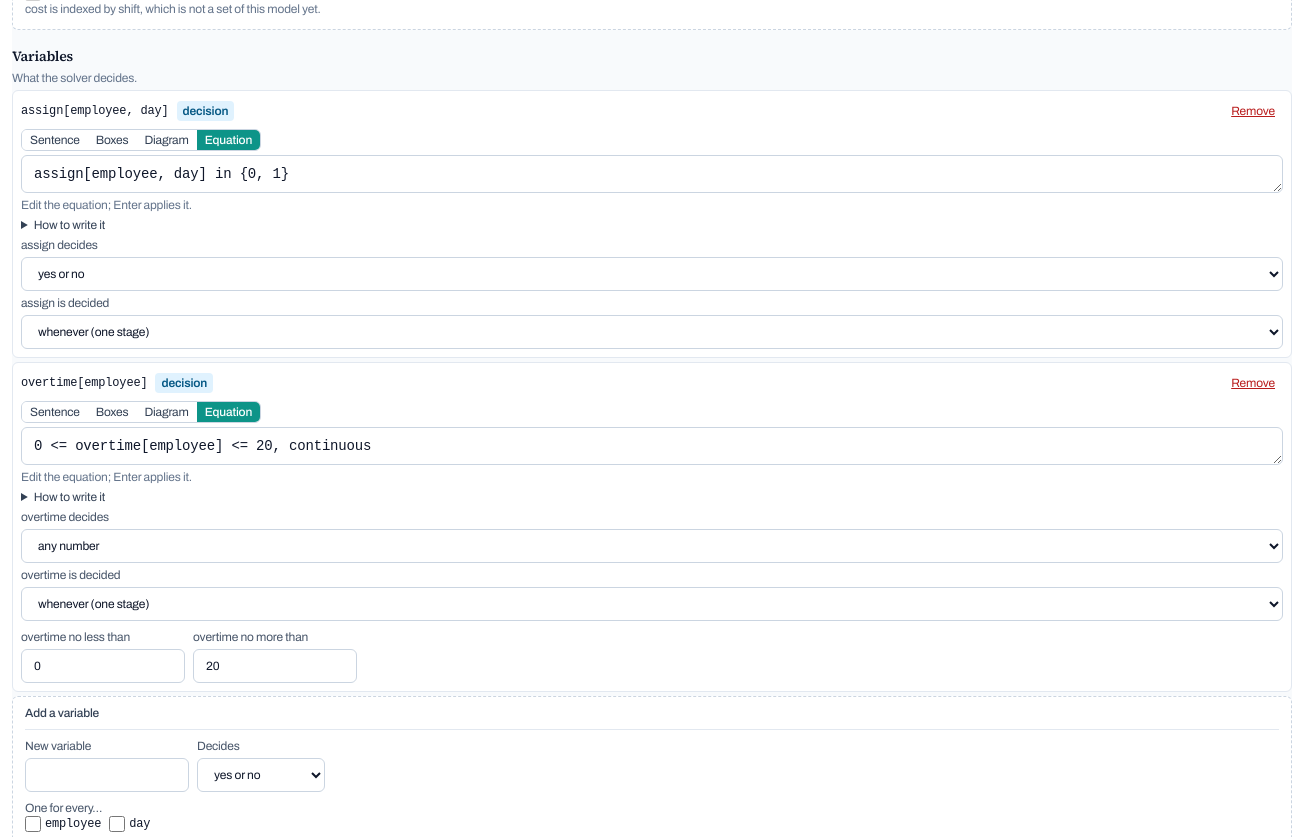
Test: declarations in the four views › writes a variable's limits from its equation, and refuses a new name there
(page scrolled)
Replace the text in the text box named "Equation for overtime" below "overtime[employee]" with "2 <= overtime[employee] <= 10, integer" at (652, 446), box [21,427,1283,465]
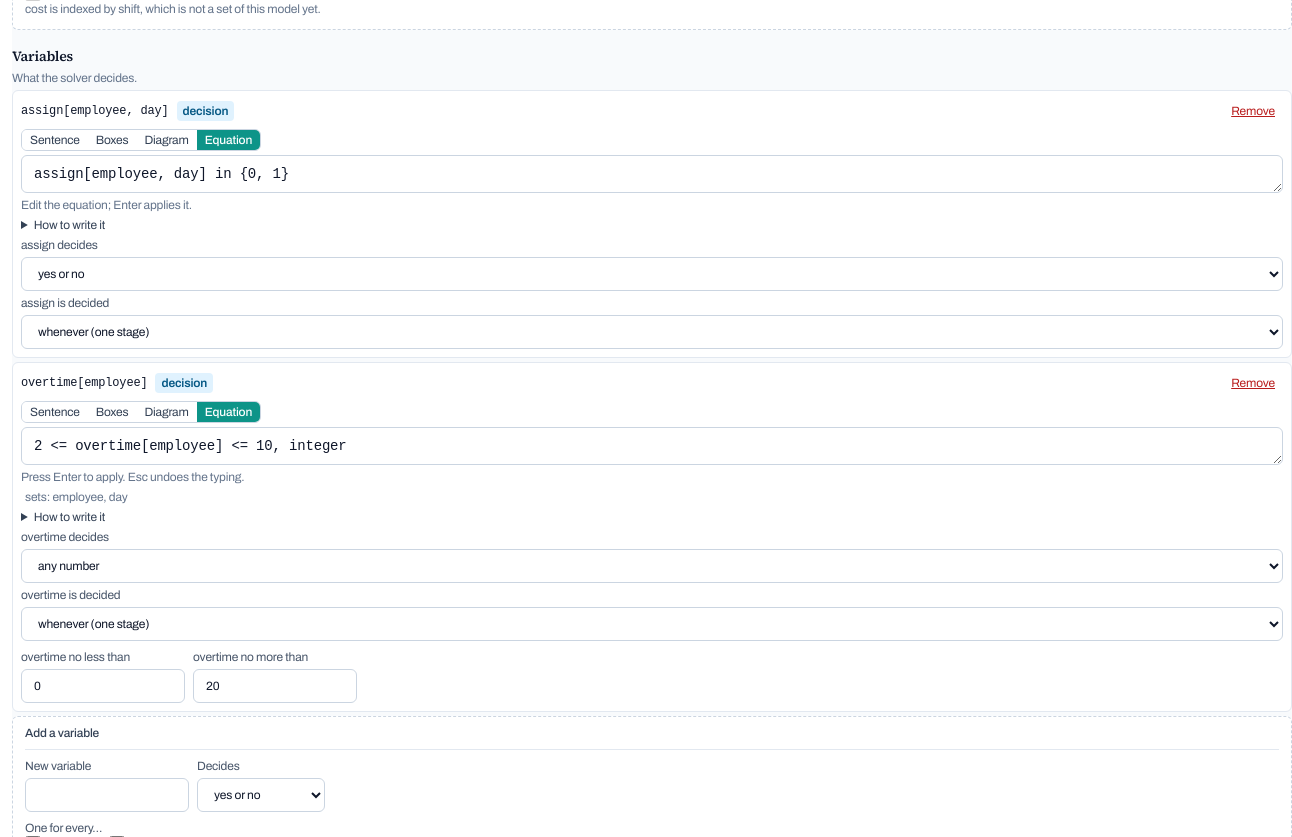
Press Enter in the text box named "Equation for overtime" below "overtime[employee]", box [21,427,1283,465]
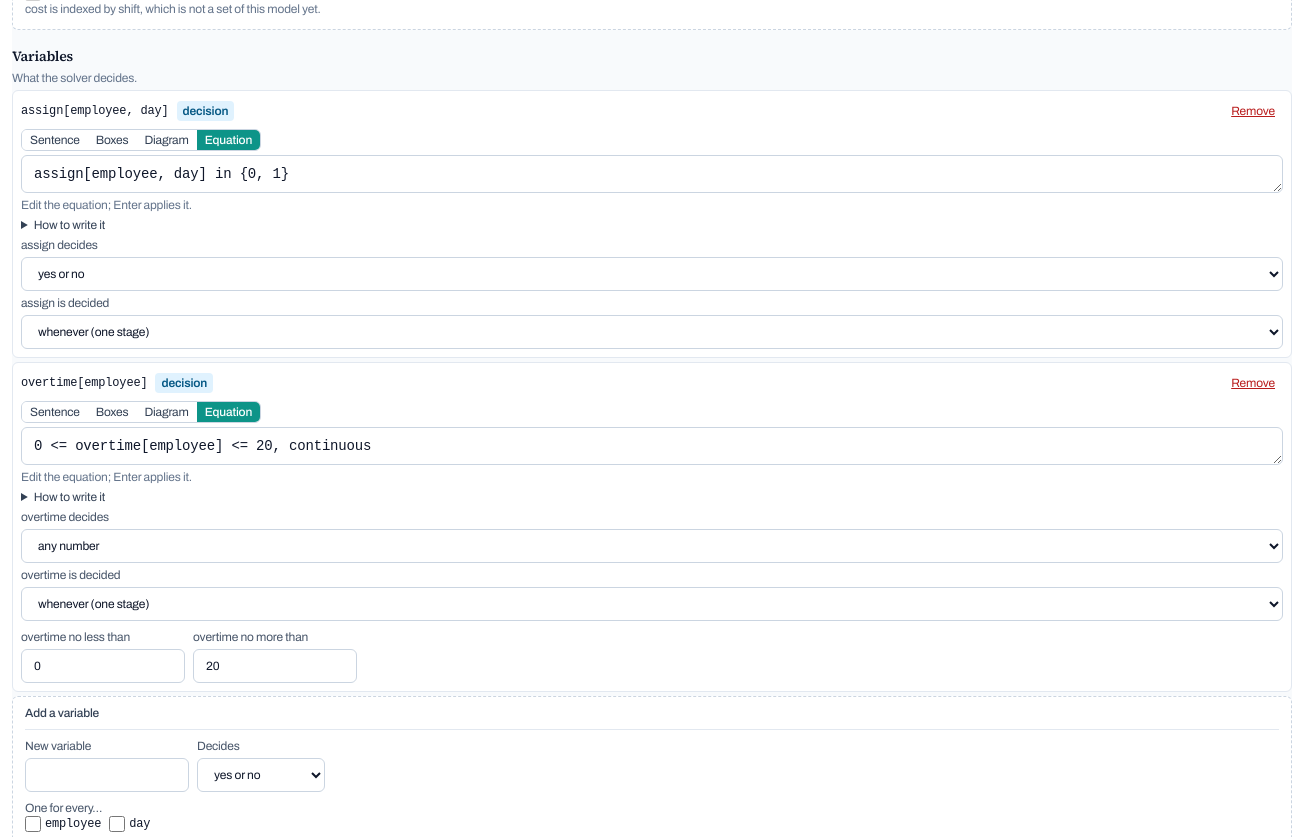
Replace the text in the text box named "Equation for overtime" below "overtime[employee]" with "0 <= extra[employee], integer" at (652, 446), box [21,427,1283,465]
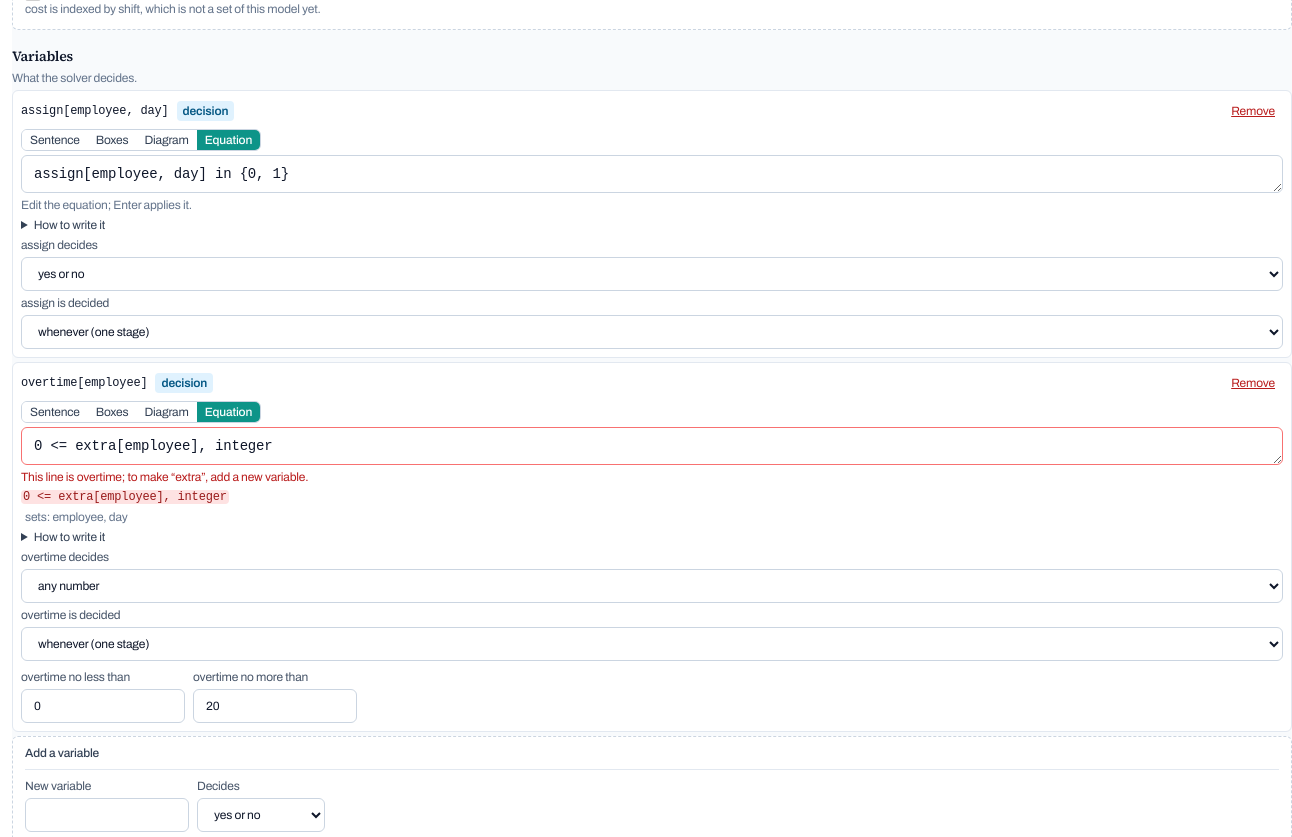
Expected: the text box named "Equation for assign" below "assign[employee, day]" holds "assign[employee, day] in {0, 1}", [21,155,1283,193]
Expected: the text "to make “extra”, add a new variable" is shown, [21,470,308,484]
